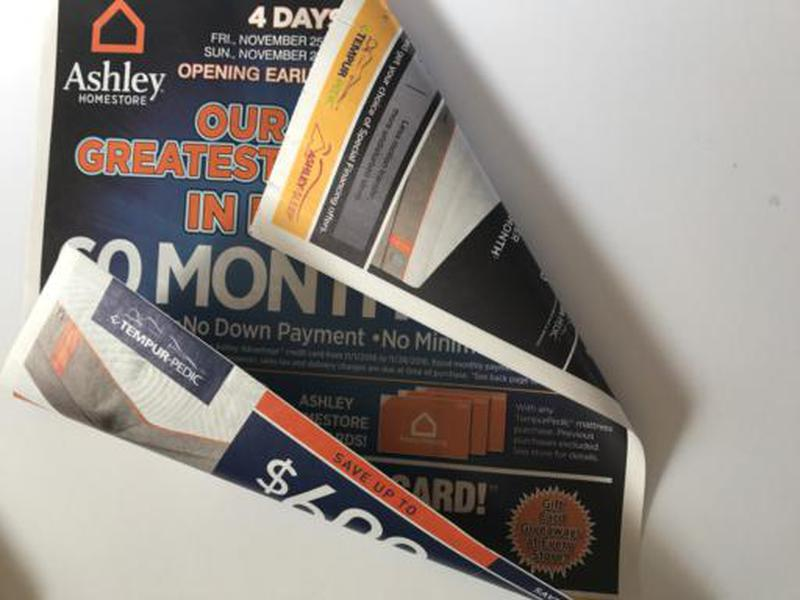paper: (1, 1, 648, 600)
